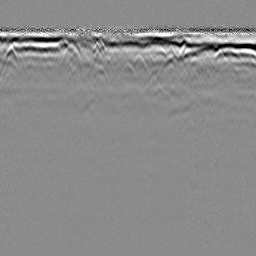cavity: (117, 59, 137, 79)
